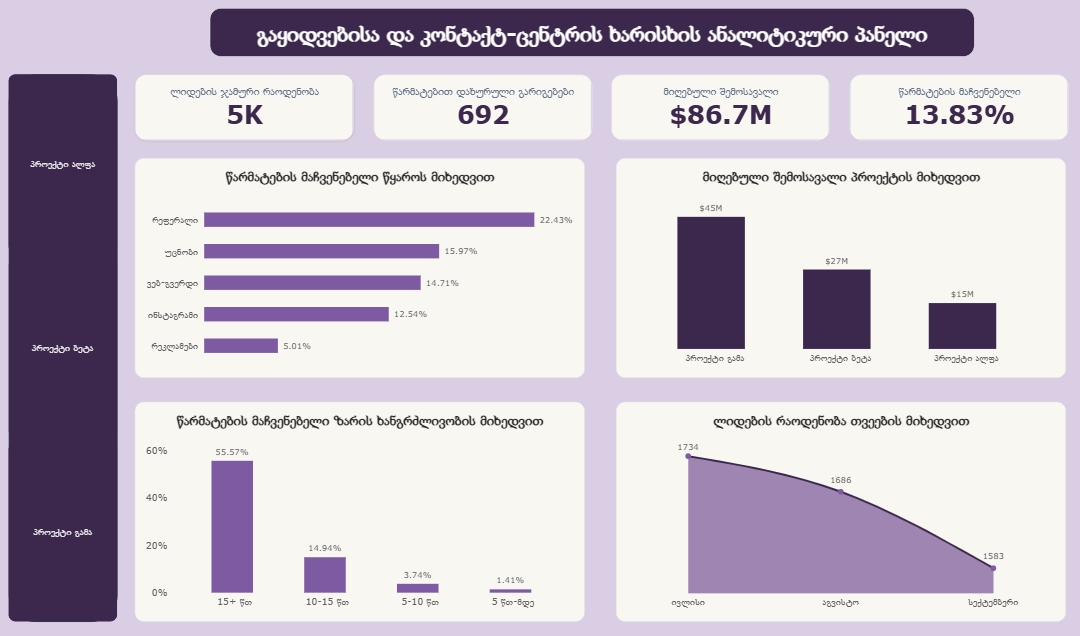

Layout of this report page (visuals, bound fields, positions):
{"tool":"powerbi","page":{"name":"Page 1","canvas":[1700,2500],"ordinal":0},"visuals":[{"type":"shape","box":[34,115.1,165,827],"z":0},{"type":"cardVisual","fields":{"Data":["public leads_clean.Total Leads"]},"box":[224.5,115.1,330,100],"z":1000},{"type":"cardVisual","fields":{"Data":["public leads_clean.Won Leads"]},"box":[584.3,115.1,330,100],"z":2000},{"type":"cardVisual","fields":{"Data":["public leads_clean.Won Revenue"]},"box":[944,115.1,330,100],"z":3000},{"type":"cardVisual","fields":{"Data":["public leads_clean.Conversion %"]},"box":[1303.8,115.1,330,100],"z":4000},{"type":"clusteredBarChart","title":"წარმატების მაჩვენებელი წყაროს მიხედვით","fields":{"Category":["public leads_clean.source"],"Y":["public leads_clean.Conversion %"]},"box":[224.5,241.5,679.2,332.1],"z":5000},{"type":"clusteredColumnChart","title":"მიღებული შემოსავალი პროექტის მიხედვით","fields":{"Category":["public leads_clean.project"],"Y":["public leads_clean.Won Revenue"]},"box":[950.9,241.5,679,332],"z":6000},{"type":"lineChart","title":"ლიდების რაოდენობა თვეების მიხედვით","fields":{"Category":["public leads_clean.Month GE"],"Y":["public leads_clean.Total Leads"]},"box":[950.9,609.4,679,332],"z":7000},{"type":"clusteredColumnChart","title":"წარმატების მაჩვენებელი ზარის ხანგრძლივობის მიხედვით","fields":{"Category":["public leads_clean.Talk Bucket GE"],"Y":["public leads_clean.Conversion %"]},"box":[224.5,609.4,679,332],"z":8000},{"type":"advancedSlicerVisual","fields":{"Values":["public leads_clean.project"]},"box":[34,115.1,164.2,826.4],"z":9000},{"type":"textbox","box":[337.7,0,1154.7,73.6],"z":10000},{"type":"shape","box":[143.4,0,1409.4,86.8],"z":11000}]}

Visuals, with their boxes on the page's 1700x2500 design canvas (x1, y1, x2, y2). These are canvas units, not pixel positions in the 1080x636 screenshot, which may show the page scaled, cropped or inside an application window:
shape: bbox=[34, 115, 199, 942]
cardVisual - public leads_clean.Total Leads: bbox=[224, 115, 554, 215]
cardVisual - public leads_clean.Won Leads: bbox=[584, 115, 914, 215]
cardVisual - public leads_clean.Won Revenue: bbox=[944, 115, 1274, 215]
cardVisual - public leads_clean.Conversion %: bbox=[1304, 115, 1634, 215]
"წარმატების მაჩვენებელი წყაროს მიხედვით" clusteredBarChart: bbox=[224, 242, 904, 574]
"მიღებული შემოსავალი პროექტის მიხედვით" clusteredColumnChart: bbox=[951, 242, 1630, 574]
"ლიდების რაოდენობა თვეების მიხედვით" lineChart: bbox=[951, 609, 1630, 941]
"წარმატების მაჩვენებელი ზარის ხანგრძლივობის მიხედვით" clusteredColumnChart: bbox=[224, 609, 904, 941]
advancedSlicerVisual - public leads_clean.project: bbox=[34, 115, 198, 942]
textbox: bbox=[338, 0, 1492, 74]
shape: bbox=[143, 0, 1553, 87]
